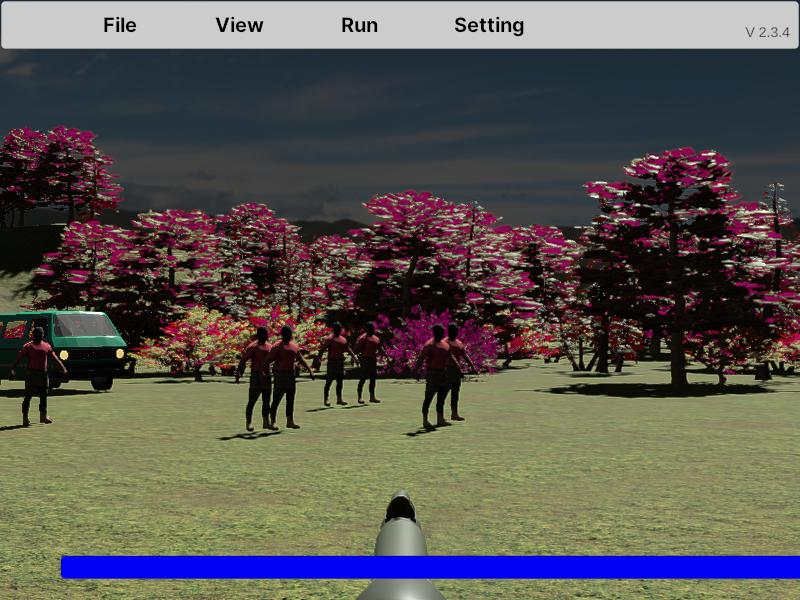Human: (11, 329, 70, 423), (261, 326, 314, 429), (236, 326, 286, 431), (426, 324, 479, 423), (414, 325, 464, 428), (317, 323, 359, 406), (352, 322, 392, 404)
car: (0, 309, 126, 392)
